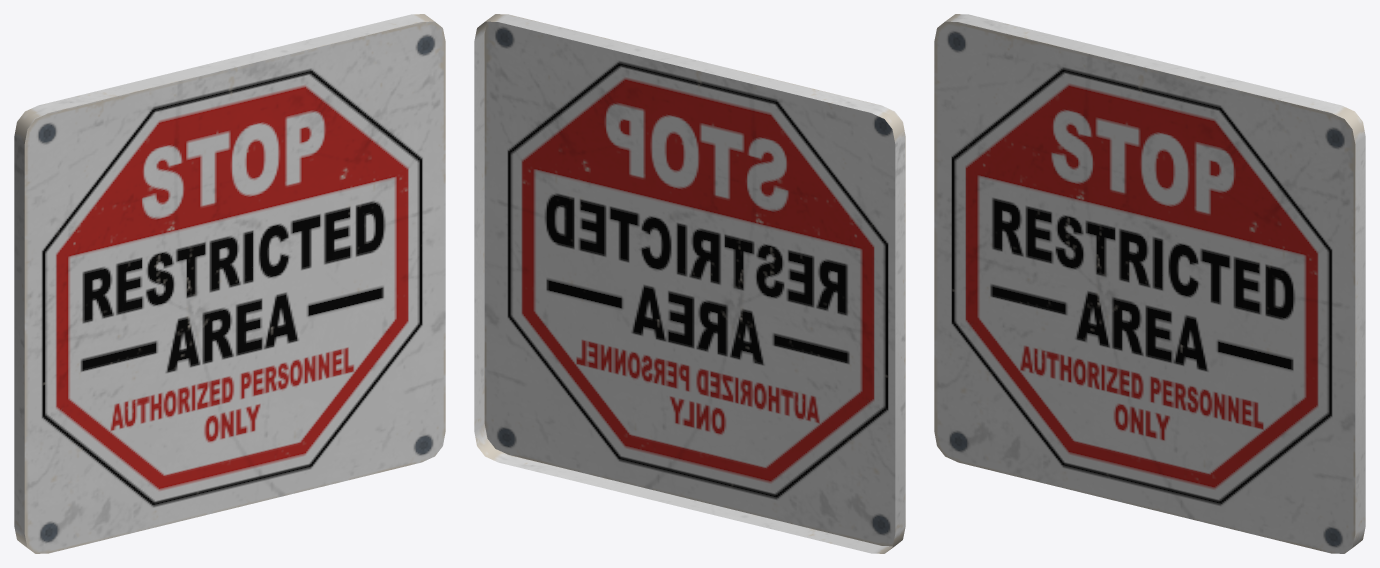
The model's file is SM_Sign_22.fbx.
3 views of the same model, side by side, from view 1: azimuth 30°, elevation 25°; view 2: azimuth 150°, elevation 25°; view 3: azimuth 330°, elevation 25° (orthographic).
Visible parts, largest first — view 1: SM_Sign_22; view 2: SM_Sign_22; view 3: SM_Sign_22.
Boxes of the visible parts, x1,y1,x2,y2 form: SM_Sign_22: [14, 14, 445, 553]; SM_Sign_22: [474, 14, 905, 553]; SM_Sign_22: [934, 14, 1365, 553].
Bounding box in the file's own units: 35 × 1.5 × 35.
1 material, 1 textured.
